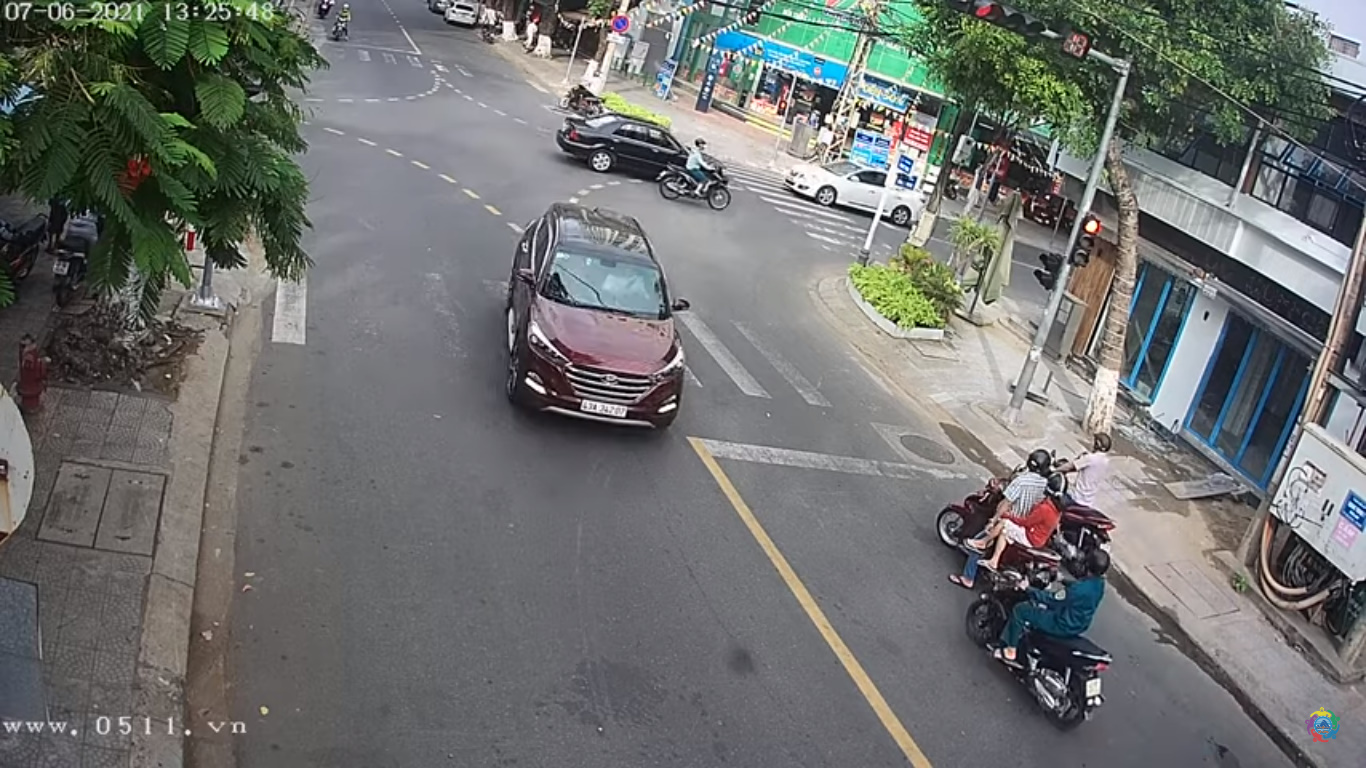car: (509, 202, 687, 428)
